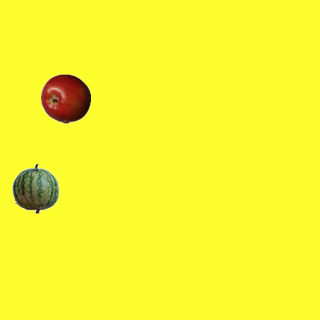Apple Braeburn: (40, 73, 90, 123)
Watermelon: (10, 163, 60, 213)
